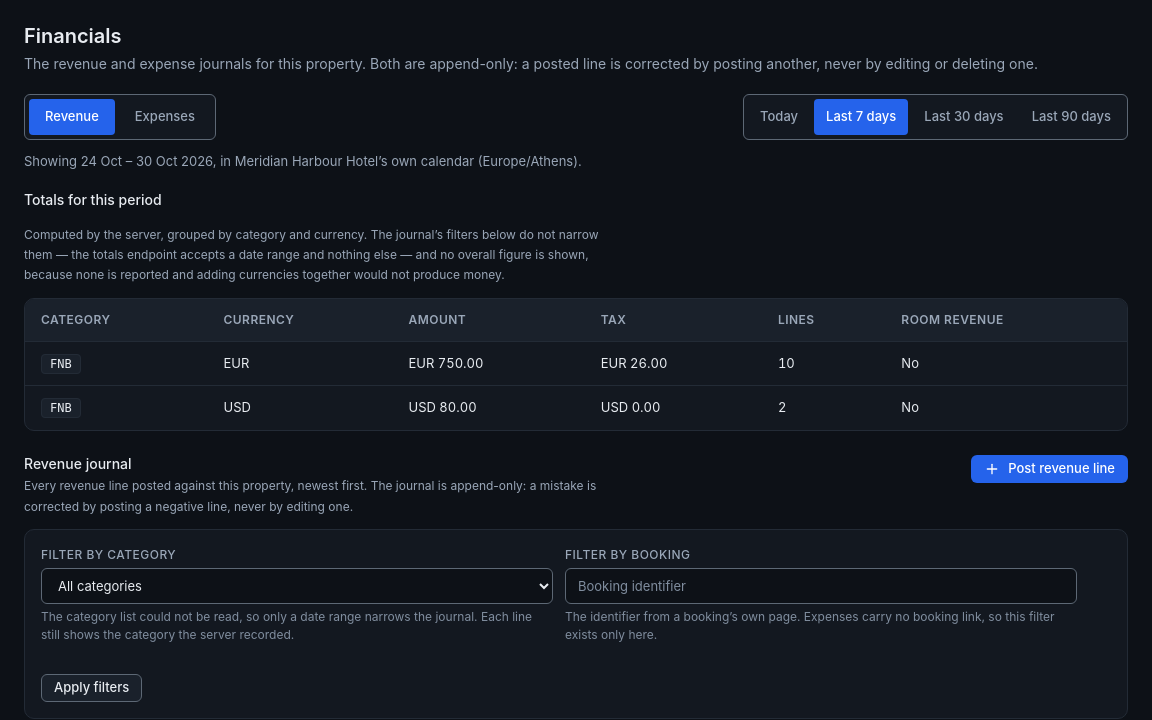
Scenario: the shared category catalogue › posts a typed code unchanged, and renders the server’s refusal of an unknown one
Step 1. Click the button "Post revenue line" → (1050, 469), box [971,455,1128,483]
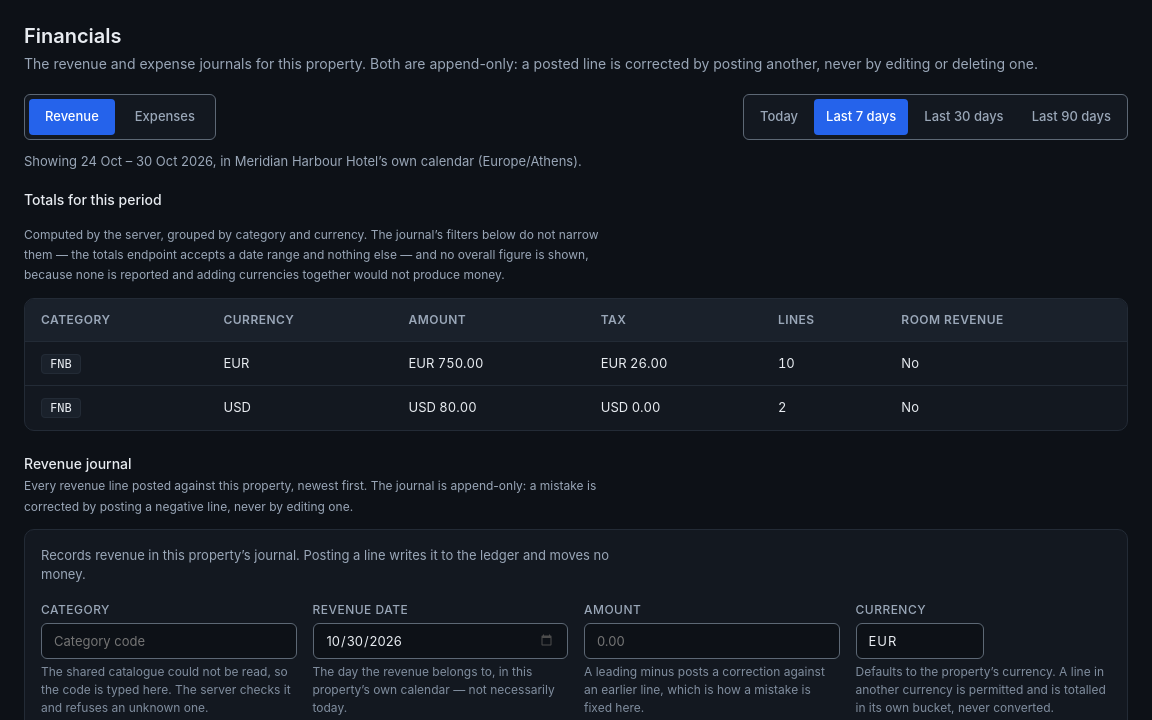
Step 2. Type "NOSUCH" into the field labelled "Category" → (169, 641), box [41,623,296,659]
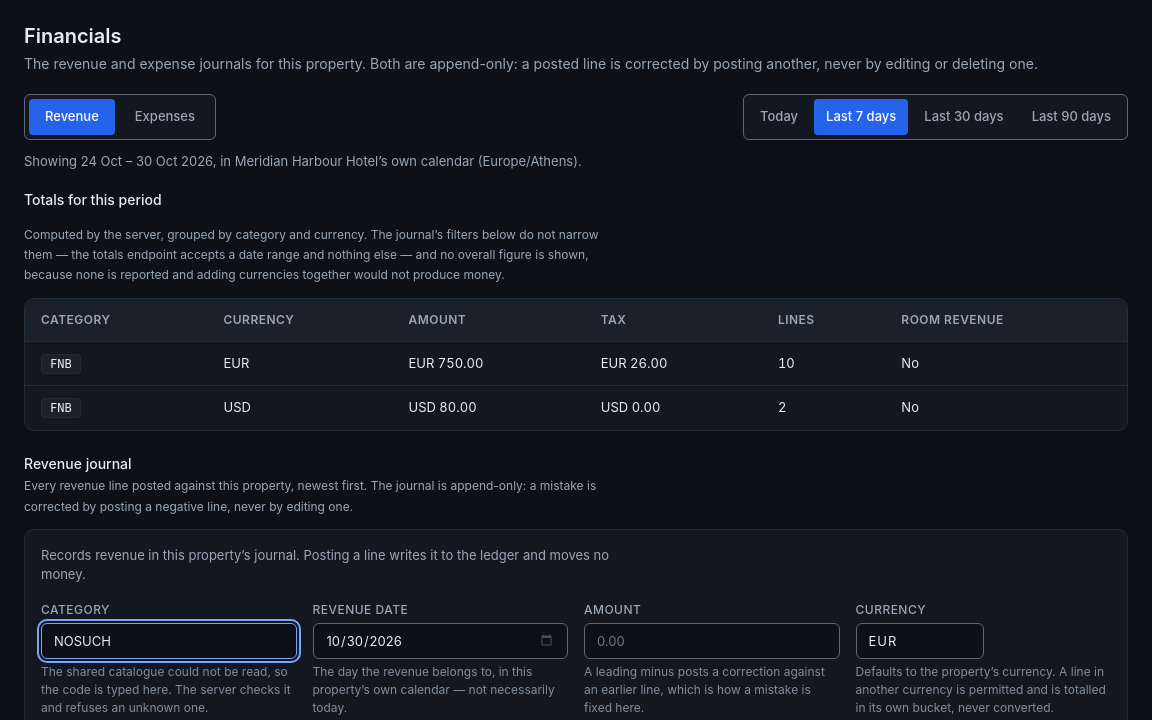
Step 3. Type "10.00" into the field labelled "Amount" → (712, 641), box [584,623,840,659]
(page scrolled)
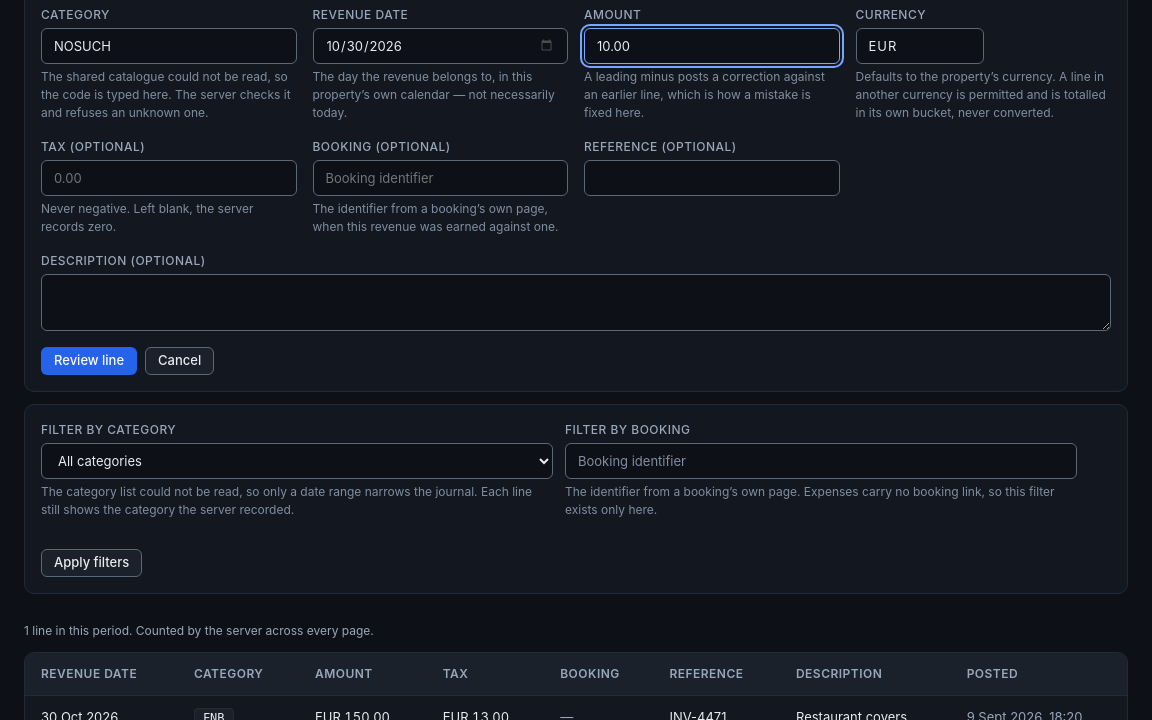
Step 4. Click the button "Review line" → (89, 361), box [41,347,137,375]
(page scrolled)
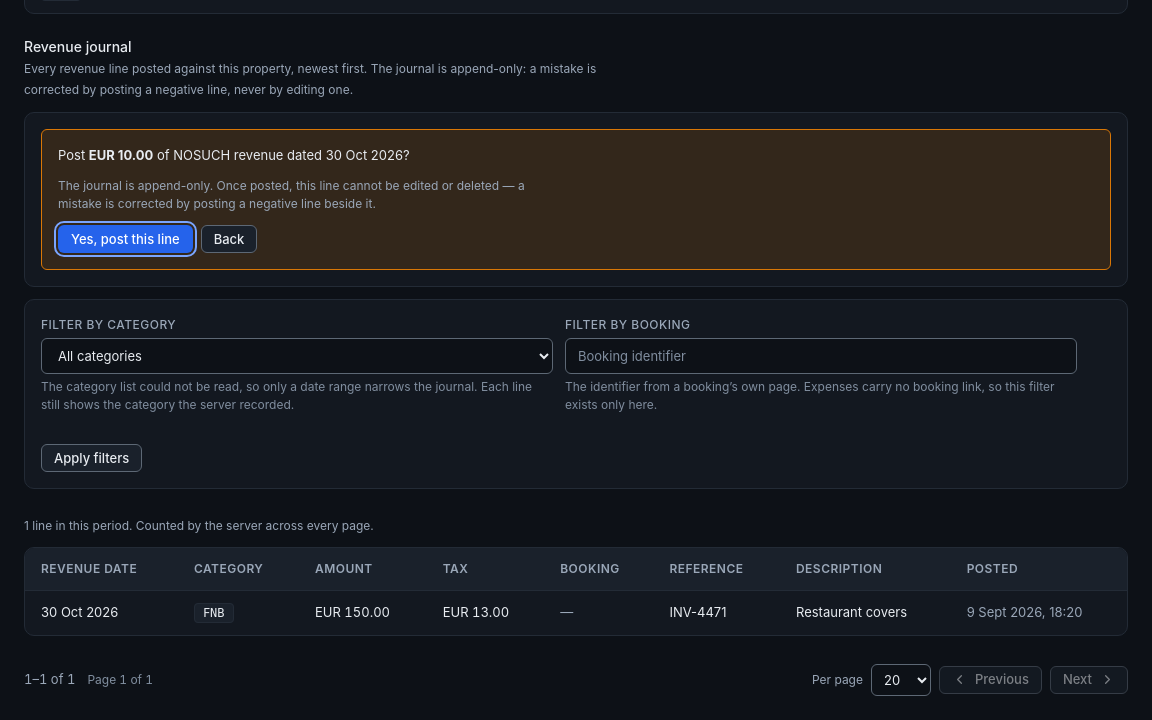
Step 5. Click the button "Yes, post this line" → (125, 240), box [58,226,193,254]
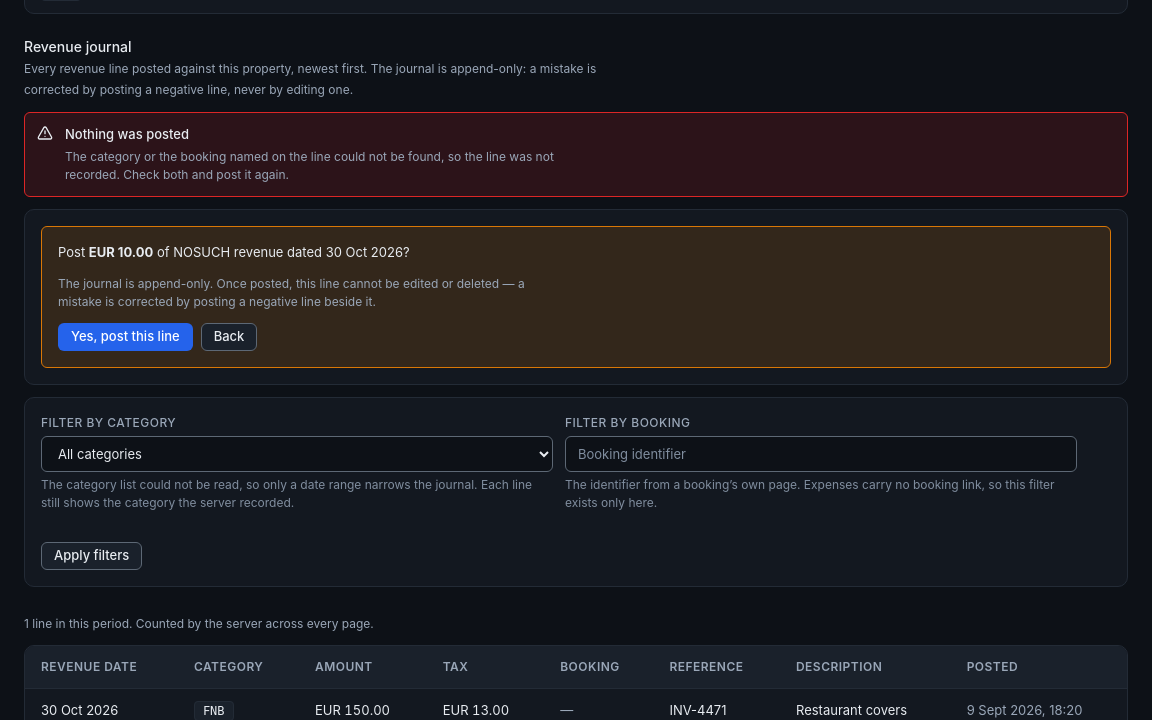
Expected: the text "Nothing was posted" is shown, [65,126,189,142]
